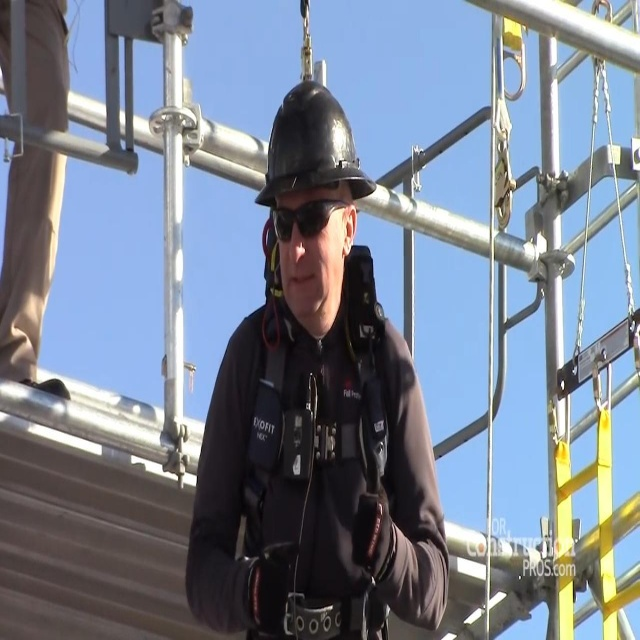Arnes_seguridad: (229, 185, 401, 640)
